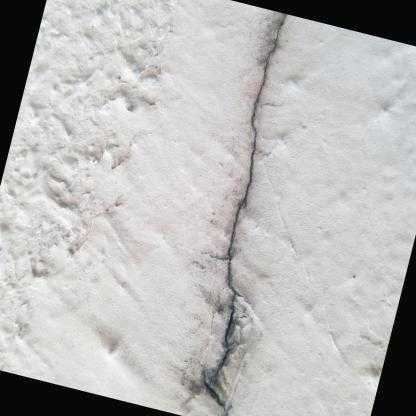crack: (213, 12, 287, 380), (203, 371, 227, 416)
